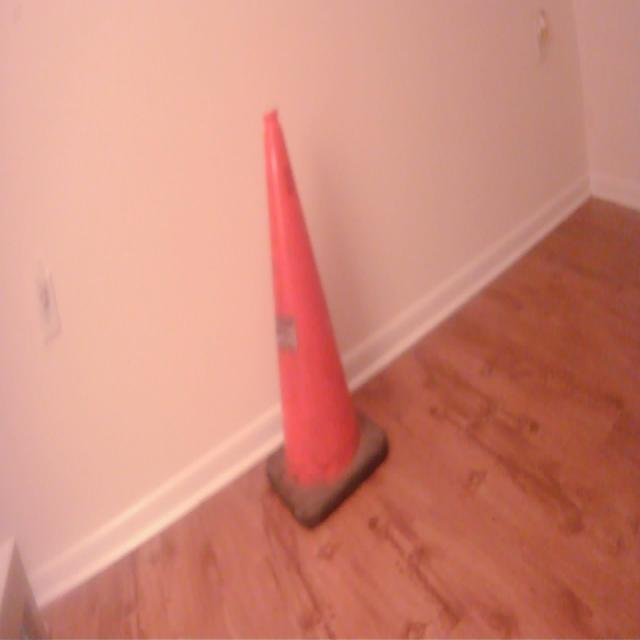traffic cone: (261, 102, 393, 536)
